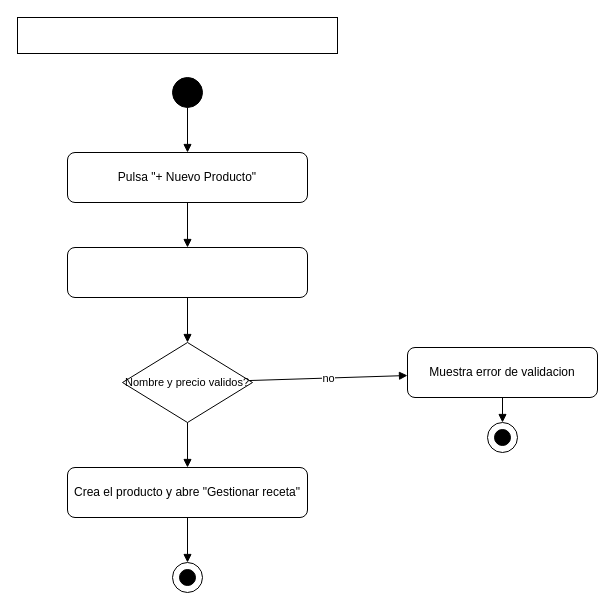
Image size: 615x610. Some labels were removed from this diagram. The centre of each missing label's shape, as x and y in pixels:
Diagrama de actividad - Agregar Producto (CU-23): [177,35]
Ingresa nombre y precio, pulsa "Guardar": [187,272]
